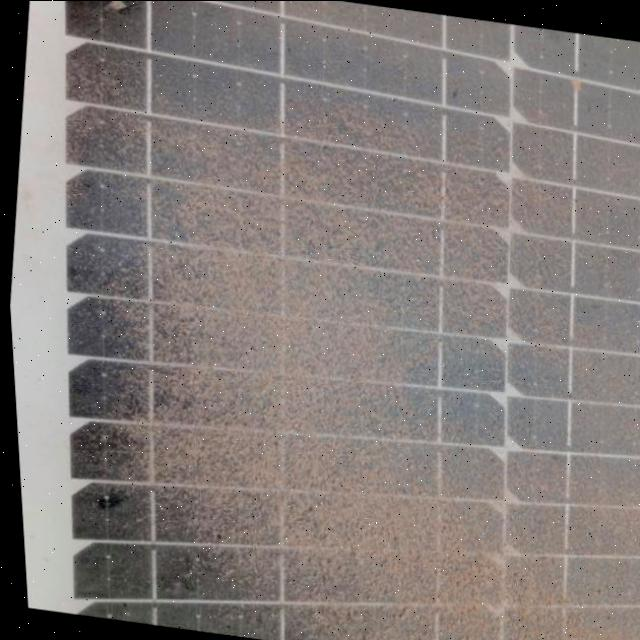Surface Contaminant: (55, 0, 640, 640)
